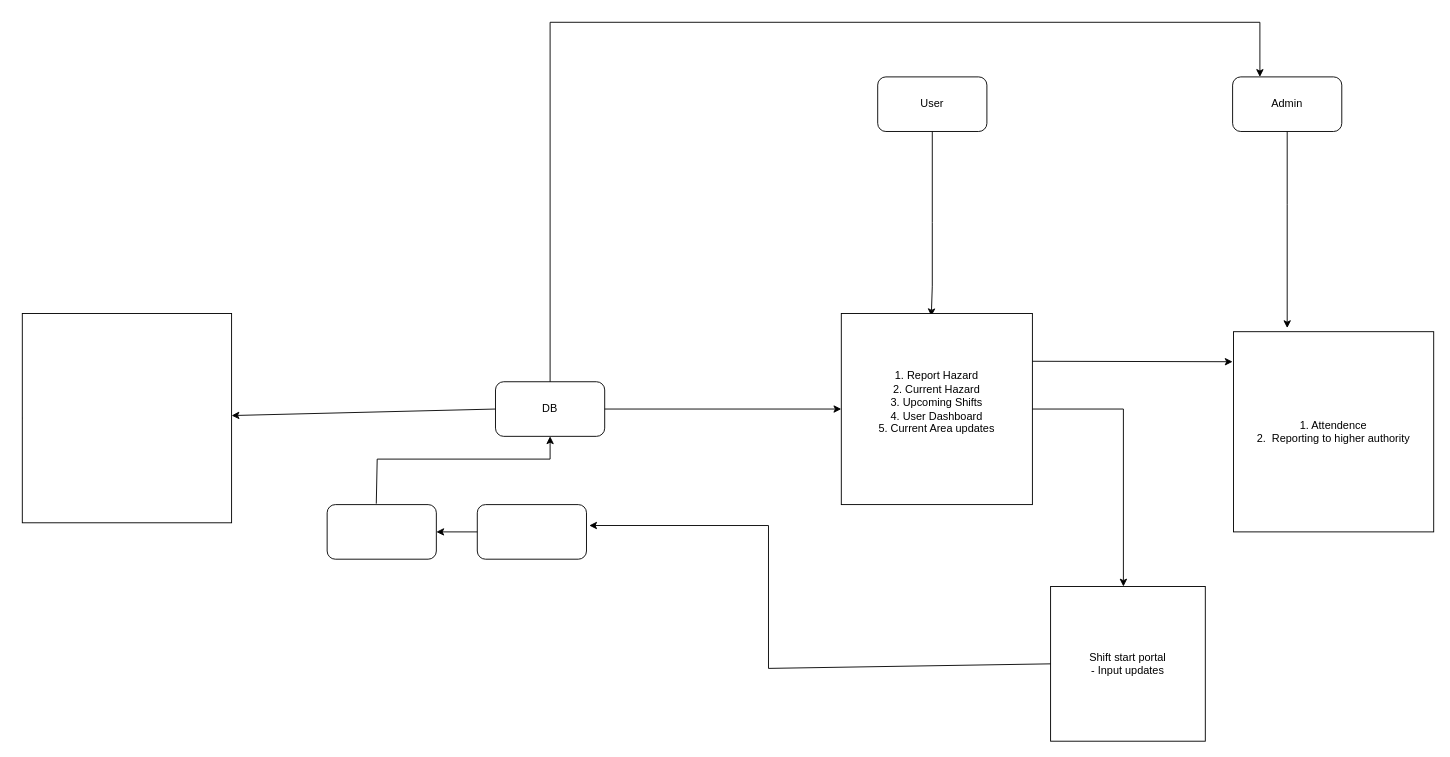
Some shapes in this 1450 by 757 pixel diagram are drawn without their labels. Here are the shapes that lost their labels. From the top down, the centre of each, then its label:
At point 126,418: "Web App".
At point 381,531: "firebase".
At point 531,531: "user input".
